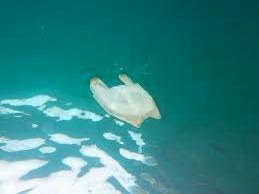Trash: (86, 69, 180, 137)
